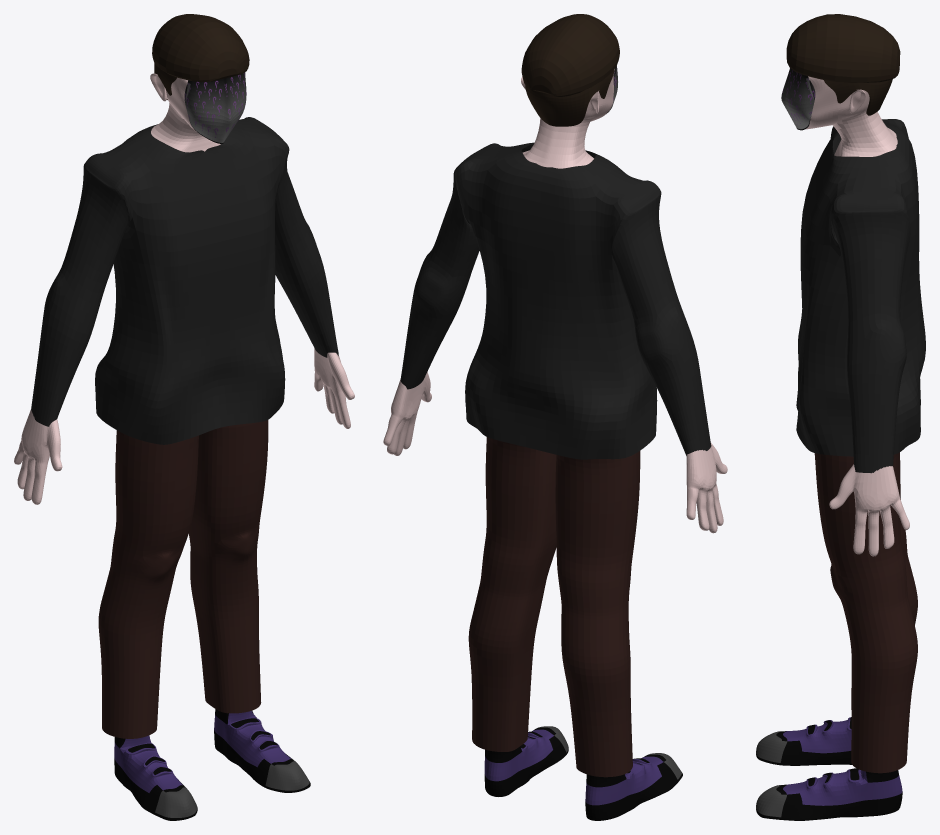
File: NOONE.fbx
The picture shows the model from 3 angles, left to right: view 1: azimuth 30°, elevation 25°; view 2: azimuth 150°, elevation 25°; view 3: azimuth 270°, elevation 25°; orthographic projection.
Visible parts, largest first — view 1: Body.003, Pants, Shoes, Body, Cube.001, Body.004; view 2: Body.003, Pants, Body, Shoes, Cube.001, Hair_andrew; view 3: Body.003, Pants, Shoes, Body, Cube.001, Body.004, Hair_andrew.
Boxes of the visible parts, box(x1,y1,x2,y2) form: Body.003: box(31, 117, 338, 444); Pants: box(98, 420, 268, 738); Shoes: box(114, 709, 310, 820); Body: box(14, 73, 354, 504); Cube.001: box(152, 14, 249, 82); Body.004: box(184, 72, 246, 143); Body.003: box(400, 142, 711, 459); Pants: box(468, 437, 640, 777); Body: box(383, 67, 727, 533); Shoes: box(484, 726, 682, 820); Cube.001: box(521, 14, 619, 96); Hair_andrew: box(525, 70, 614, 126); Body.003: box(796, 119, 925, 473); Pants: box(814, 452, 917, 773); Shoes: box(756, 717, 902, 820); Body: box(805, 76, 909, 556); Cube.001: box(786, 14, 900, 82); Body.004: box(781, 68, 815, 130); Hair_andrew: box(824, 79, 892, 115).
Bounding box in the file's own units: 93.41 × 212 × 42.58.
